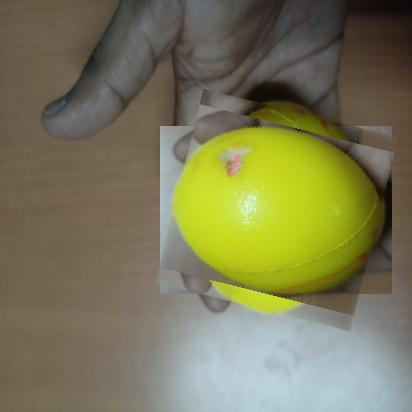Yellowball: (166, 99, 387, 321)
